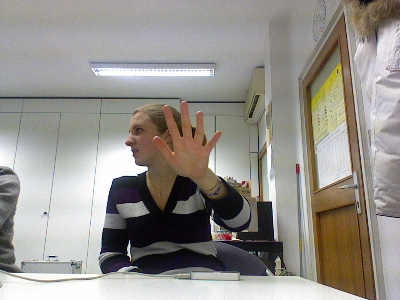布: (150, 98, 221, 180)
